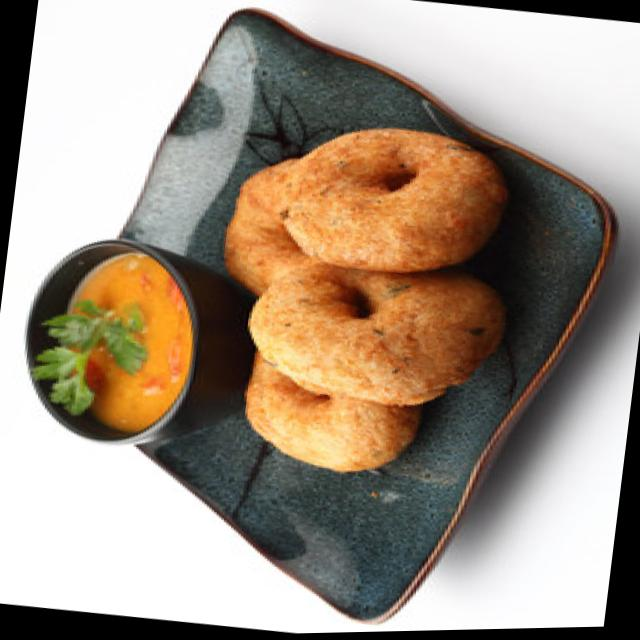SAMBAR: (57, 255, 184, 428)
VADA: (225, 127, 501, 469)
